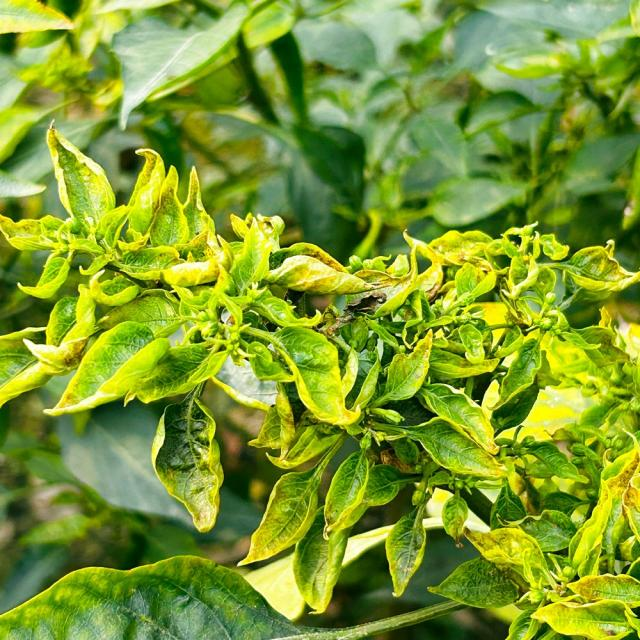Chilli_Leaf_Curl: (1, 118, 638, 638), (0, 554, 304, 638), (150, 393, 224, 533)
